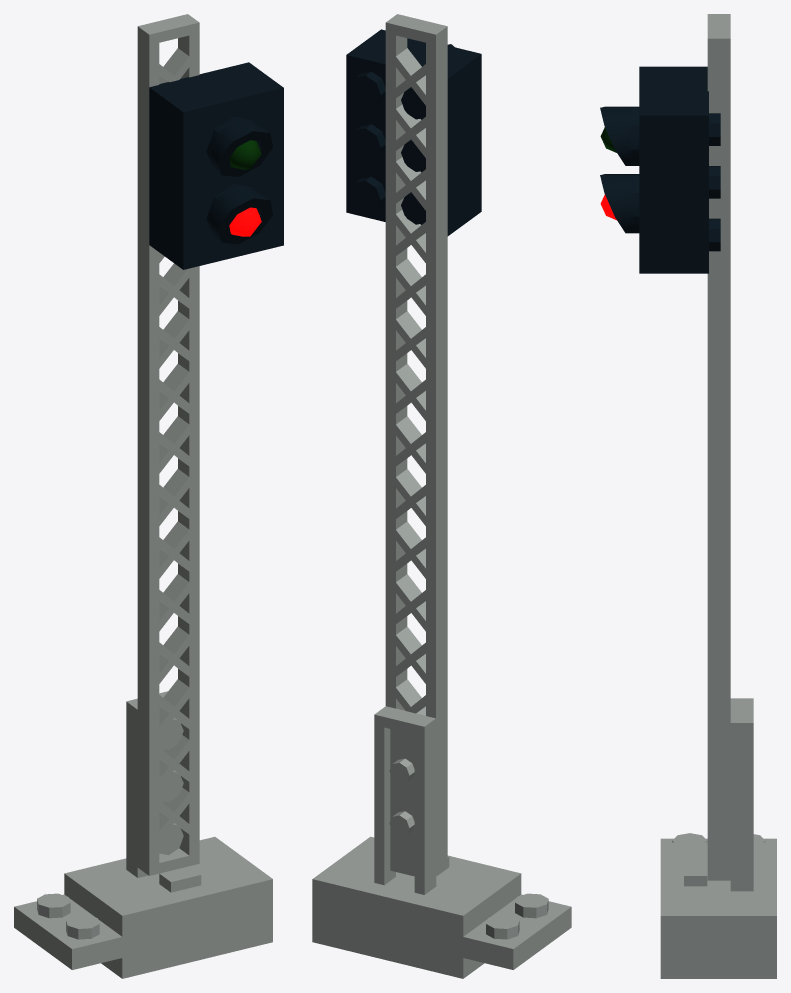
File: Signal.gltf
The picture shows the model from 3 angles, left to right: view 1: azimuth 30°, elevation 25°; view 2: azimuth 150°, elevation 25°; view 3: azimuth 270°, elevation 25°; orthographic projection.
Visible parts, largest first — view 1: 4168.dat, 70022.dat.001, 4169.dat, 3020.dat, 3021.dat, Green_Off, Red_On; view 2: 4168.dat, 4169.dat, 70022.dat.001, 3020.dat, 3021.dat; view 3: 4168.dat, 70022.dat.001, 4169.dat, 3020.dat, 3021.dat.
Part boxes in pixels (x1,y1,x2,y2): 4168.dat: (137, 14, 199, 875); 70022.dat.001: (149, 62, 283, 269); 4169.dat: (64, 691, 272, 936); 3020.dat: (14, 893, 272, 969); 3021.dat: (101, 921, 272, 978); Green_Off: (229, 140, 261, 169); Red_On: (229, 207, 261, 236); 4168.dat: (385, 14, 447, 875); 4169.dat: (312, 706, 521, 936); 70022.dat.001: (346, 29, 481, 236); 3020.dat: (312, 893, 571, 969); 3021.dat: (312, 921, 484, 978); 4168.dat: (707, 14, 730, 880); 70022.dat.001: (600, 66, 720, 273); 4169.dat: (660, 698, 776, 936); 3020.dat: (660, 833, 776, 957); 3021.dat: (660, 958, 776, 978).
Size of the model in its own units: 32 by 139 by 24.37.
1 material, 1 textured.
